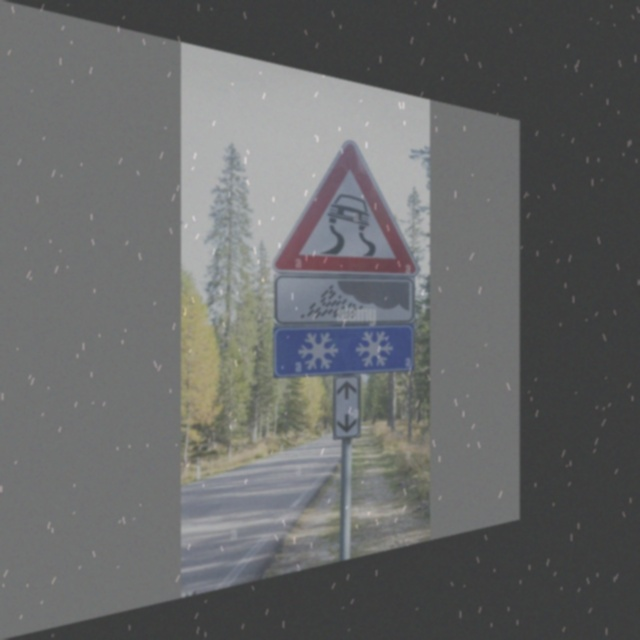Slippery_Road: (280, 130, 412, 272)
